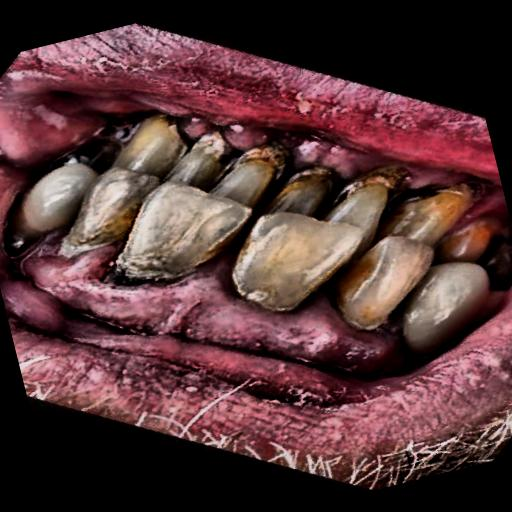Calculus: (39, 201, 216, 326), (240, 94, 419, 214), (268, 241, 402, 339)
